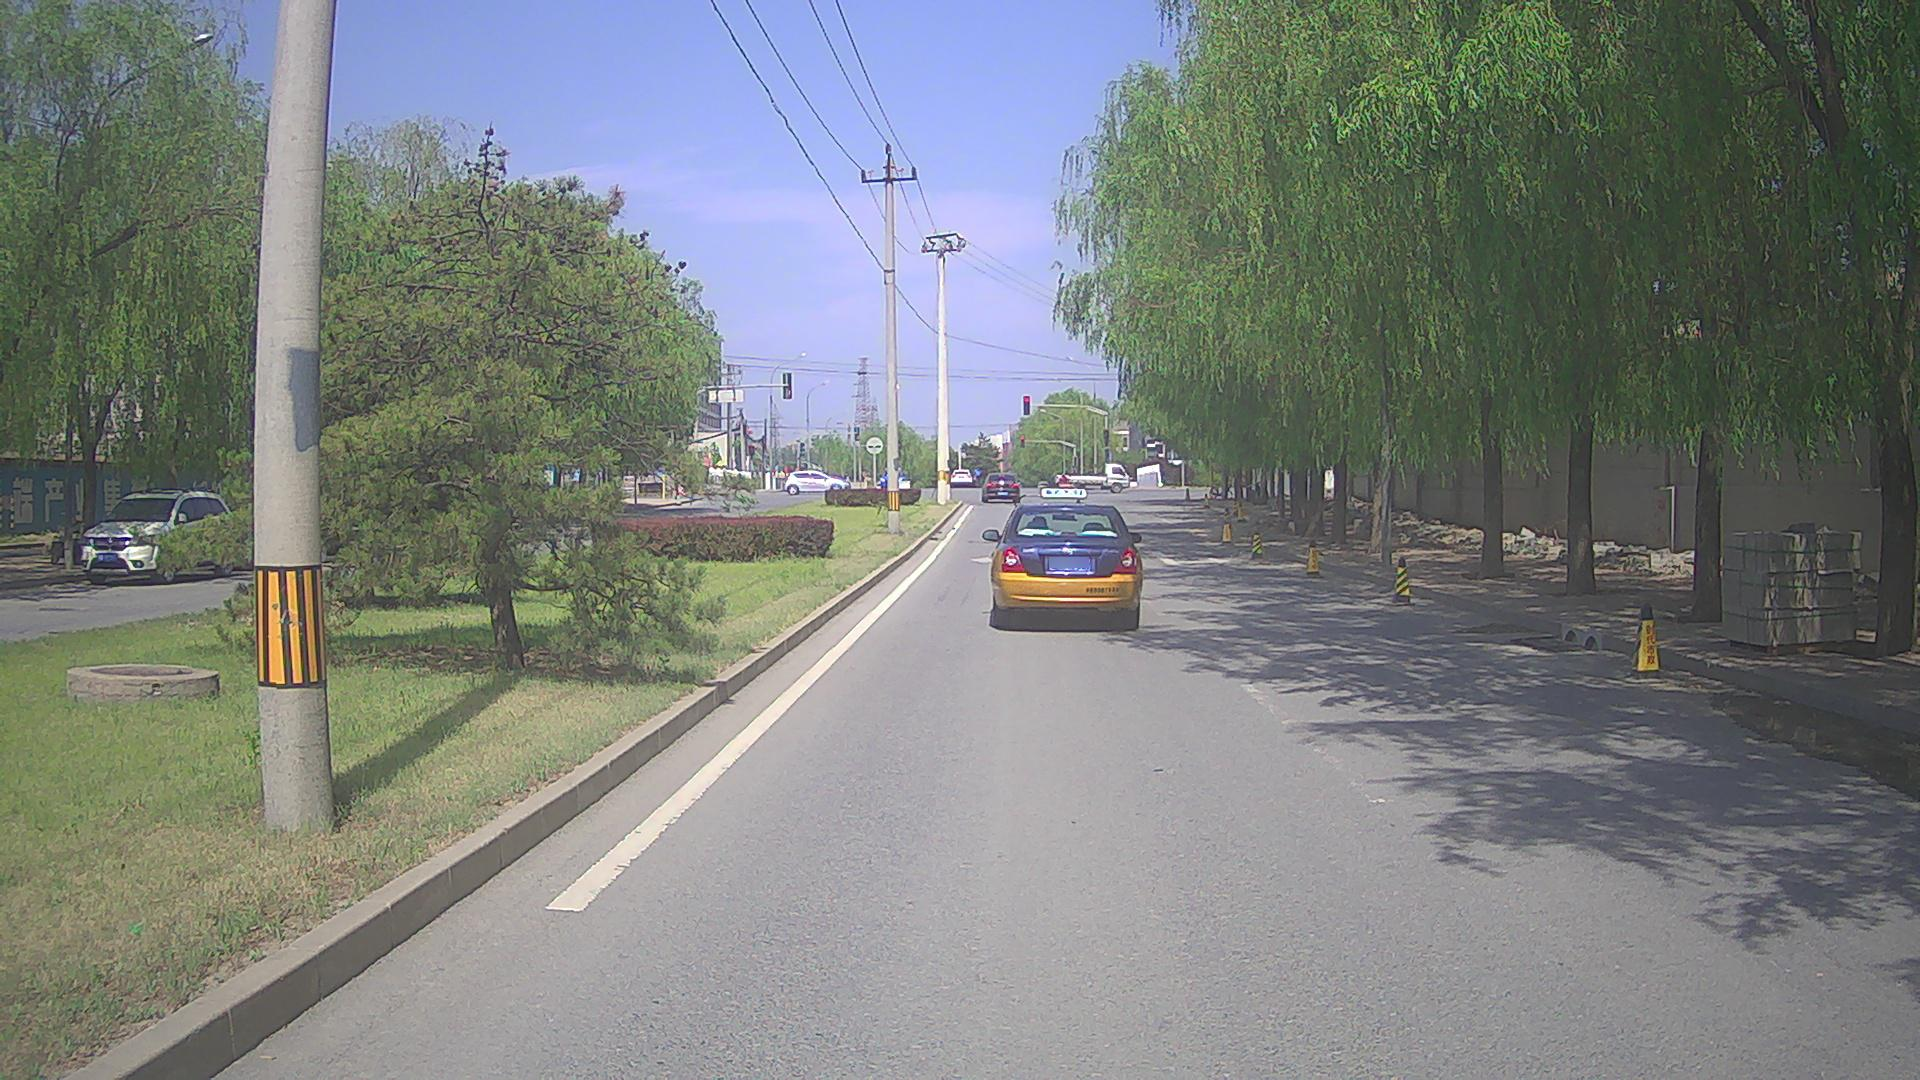car: (980, 487, 1143, 630), (78, 487, 239, 585), (783, 469, 851, 495), (981, 472, 1021, 503), (949, 468, 973, 488)
cyclist: (1208, 481, 1235, 501)
ignore: (874, 466, 910, 490), (1036, 479, 1049, 490)
pedestrian: (1057, 472, 1069, 492)
trafficcone: (1629, 603, 1661, 680), (1301, 538, 1325, 579), (1391, 556, 1410, 603), (1250, 531, 1264, 560), (1219, 520, 1233, 546), (1236, 501, 1248, 523), (1221, 506, 1232, 530), (1231, 498, 1241, 518), (1202, 492, 1210, 509), (1183, 487, 1191, 502)
truck: (1053, 462, 1130, 493)
